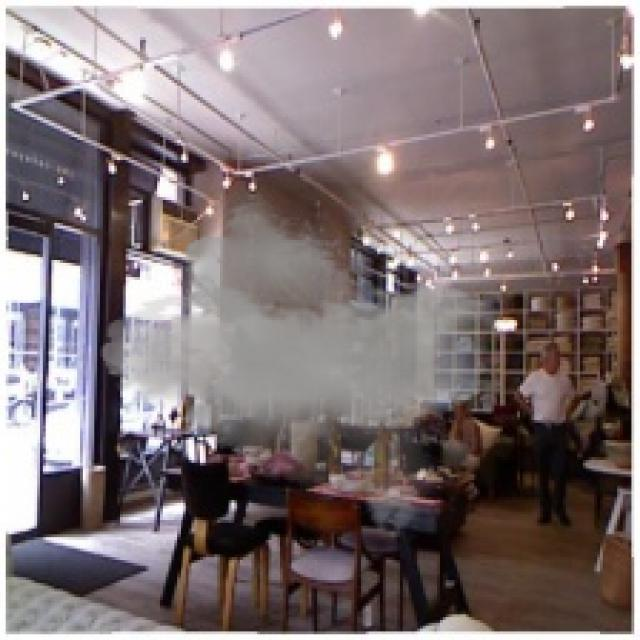Smoke: (100, 191, 503, 540)
